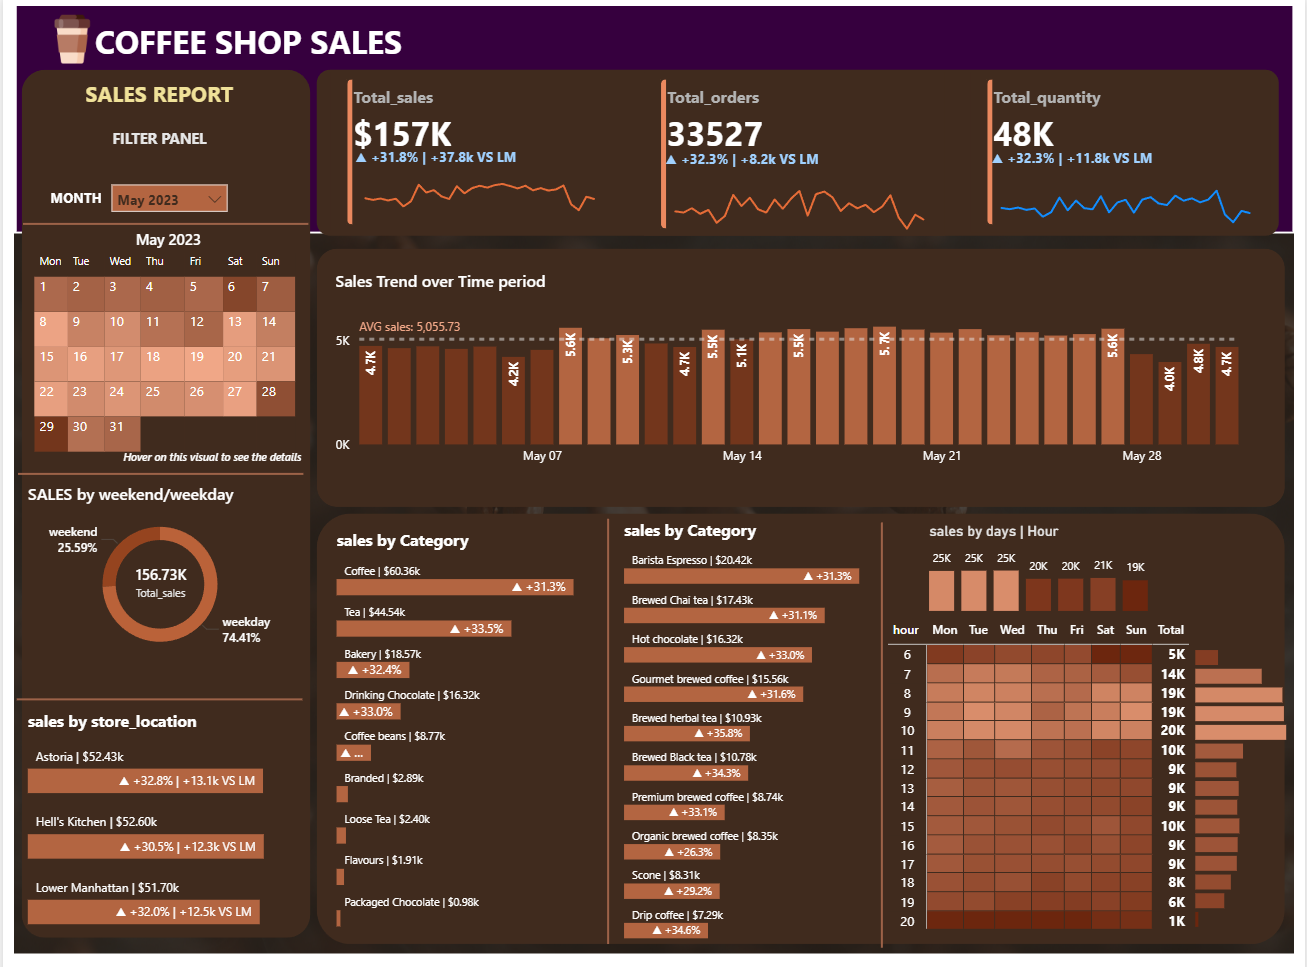

The dashboard page shown, as its layout file describes it:
{"tool":"powerbi","page":{"name":"coffee _sales_dashboard","canvas":[1302,1200],"ordinal":0},"visuals":[{"type":"shape","box":[14.1,10.3,1275.6,225.6],"z":0},{"type":"shape","box":[19.2,74.4,288.5,867.9],"z":1000},{"type":"shape","box":[314,74,962,166],"z":2000},{"type":"textbox","box":[73.1,19.2,346.2,66.7],"z":3000},{"type":"slicer","fields":{"Values":["Date_table.month_year"]},"box":[103.8,183.3,125.6,34.6],"z":4000},{"type":"group","id":"g1","title":"Group 1","box":[328,76.8,279.3,159.8],"z":5000},{"type":"cardVisual","fields":{"Data":["Transactions.total_sales"]},"box":[328,76.8,279,159.4],"z":5000,"group":"g1"},{"type":"cardVisual","fields":{"Data":["Transactions.Total_orders"]},"box":[641.5,76.8,300,163.5],"z":5000,"group":"g2"},{"type":"cardVisual","fields":{"Data":["Transactions.Total_quantity"]},"box":[967.1,76.8,300,159.8],"z":5000,"group":"g3"},{"type":"group","id":"g2","title":"Group 1","box":[641.5,76.8,300,163.4],"z":6000},{"type":"lineChart","fields":{"Y":["Transactions.Total_sales"],"Category":["Date_table.Date.Variation.Date Hierarchy.Year","Date_table.Date.Variation.Date Hierarchy.Quarter","Date_table.Date.Variation.Date Hierarchy.Month","Date_table.Date.Variation.Date Hierarchy.Day"]},"box":[348.3,152.2,258.7,84],"z":6000,"group":"g1"},{"type":"lineChart","fields":{"Category":["Date_table.Date.Variation.Date Hierarchy.Year","Date_table.Date.Variation.Date Hierarchy.Quarter","Date_table.Date.Variation.Date Hierarchy.Month","Date_table.Date.Variation.Date Hierarchy.Day"],"Y":["Transactions.Total_quantity"]},"box":[983.8,152.7,278.2,84],"z":6000,"group":"g3"},{"type":"lineChart","fields":{"Category":["Date_table.Date.Variation.Date Hierarchy.Year","Date_table.Date.Variation.Date Hierarchy.Quarter","Date_table.Date.Variation.Date Hierarchy.Month","Date_table.Date.Variation.Date Hierarchy.Day"],"Y":["Transactions.Total_orders"]},"box":[658.2,154.5,278.2,85.9],"z":6000,"group":"g2"},{"type":"group","id":"g3","title":"Group 1","box":[967.1,76.8,300,159.8],"z":7000},{"type":"pivotTable","fields":{"Rows":["Date_table.week day"],"Columns":["Date_table.day name"],"Values":["Min(Date_table.day num)"]},"box":[22,252.4,275.6,215.9],"z":8000},{"type":"cardVisual","fields":{"Data":["Min(Date_table.month_year)"]},"box":[103.7,212.2,125.6,61],"z":9000},{"type":"cardVisual","fields":{"Data":["Transactions.Foot note"]},"box":[91.5,434.1,309.8,52.4],"z":10000},{"type":"shape","box":[19.5,218.3,285.4,18.3],"z":11000},{"type":"donutChart","fields":{"Category":["Date_table.weekend/weekday"],"Y":["Sum(Transactions.SALES)"]},"box":[19.5,486.6,274.4,182.9],"z":12000},{"type":"cardVisual","fields":{"Data":["Transactions.Total_sales"]},"box":[103.7,551.2,162.2,69.5],"z":13000},{"type":"shape","box":[14.6,468.3,285.4,18.3],"z":14000},{"type":"shape","box":[314.1,517.9,967.9,430.8],"z":15000},{"type":"clusteredBarChart","title":"sales by store_location","fields":{"Category":["Transactions.store_location"],"Y":["Transactions.Place Holder","Transactions.Total_sales"]},"box":[19.5,713.4,274.4,223.2],"z":16000},{"type":"shape","box":[313.4,252.4,968.3,258.5],"z":17000},{"type":"columnChart","title":"Sales Trend over Time period","fields":{"Category":["Transactions.transaction_date"],"Y":["Transactions.Total_sales"]},"box":[328,273.2,923.2,204.9],"z":18000},{"type":"clusteredBarChart","title":"sales by Category","fields":{"Y":["Transactions.Place Holder","Transactions.Total_sales"],"Category":["Transactions.product_category"]},"box":[328.2,532.1,279.5,403.8],"z":19000},{"type":"shape","box":[14.1,693.6,285.9,19.2],"z":20000},{"type":"shape","box":[574.4,523.1,62.8,425.6],"z":21000},{"type":"clusteredBarChart","title":"sales by Category","fields":{"Y":["Transactions.Place Holder","Transactions.Total_sales"],"Category":["Transactions.product_type"]},"box":[616.7,523.1,280.8,425.6],"z":22000},{"type":"shape","box":[847.4,525.6,62.8,425.6],"z":23000},{"type":"pivotTable","fields":{"Rows":["Transactions.hour"],"Columns":["Date_table.day name"],"Values":["Transactions.Total_sales"]},"box":[879.5,620.5,312.8,328.2],"z":24000},{"type":"barChart","fields":{"Y":["Transactions.Total_sales"],"Category":["Transactions.hour"]},"box":[1187.2,641,102.6,294.9],"z":25000},{"type":"columnChart","title":"sales by days | Hour","fields":{"Y":["Transactions.Total_sales"],"Category":["Date_table.day name"]},"box":[921.8,525.6,229.5,94.9],"z":26000},{"type":"textbox","box":[42.3,187.2,74.4,29.5],"z":27000},{"type":"textbox","box":[39.7,76.9,226.9,46.2],"z":28000},{"type":"textbox","box":[73.1,126.9,167.9,32.1],"z":29000},{"type":"image","box":[39.7,19.2,57.7,48.7],"z":30000}]}

Visuals, with their boxes on the page's 1302x1200 design canvas (x1, y1, x2, y2). These are canvas units, not pixel positions in the 1307x967 screenshot, which may show the page scaled, cropped or inside an application window:
shape: pyautogui.locateOnScreen(14, 10, 1290, 236)
shape: pyautogui.locateOnScreen(19, 74, 308, 942)
shape: pyautogui.locateOnScreen(314, 74, 1276, 240)
textbox: pyautogui.locateOnScreen(73, 19, 419, 86)
slicer - Date_table.month_year: pyautogui.locateOnScreen(104, 183, 229, 218)
"Group 1" group: pyautogui.locateOnScreen(328, 77, 607, 237)
cardVisual - Transactions.total_sales: pyautogui.locateOnScreen(328, 77, 607, 236)
cardVisual - Transactions.Total_orders: pyautogui.locateOnScreen(642, 77, 942, 240)
cardVisual - Transactions.Total_quantity: pyautogui.locateOnScreen(967, 77, 1267, 237)
"Group 1" group: pyautogui.locateOnScreen(642, 77, 942, 240)
lineChart - Transactions.Total_sales x Date_table.Date.Variation.Date Hierarchy.Year: pyautogui.locateOnScreen(348, 152, 607, 236)
lineChart - Date_table.Date.Variation.Date Hierarchy.Year x Date_table.Date.Variation.Date Hierarchy.Quarter: pyautogui.locateOnScreen(984, 153, 1262, 237)
lineChart - Date_table.Date.Variation.Date Hierarchy.Year x Date_table.Date.Variation.Date Hierarchy.Quarter: pyautogui.locateOnScreen(658, 154, 936, 240)
"Group 1" group: pyautogui.locateOnScreen(967, 77, 1267, 237)
pivotTable - Date_table.week day x Date_table.day name: pyautogui.locateOnScreen(22, 252, 298, 468)
cardVisual - Min(Date_table.month_year): pyautogui.locateOnScreen(104, 212, 229, 273)
cardVisual - Transactions.Foot note: pyautogui.locateOnScreen(92, 434, 401, 486)
shape: pyautogui.locateOnScreen(20, 218, 305, 237)
donutChart - Date_table.weekend/weekday x Sum(Transactions.SALES): pyautogui.locateOnScreen(20, 487, 294, 670)
cardVisual - Transactions.Total_sales: pyautogui.locateOnScreen(104, 551, 266, 621)
shape: pyautogui.locateOnScreen(15, 468, 300, 487)
shape: pyautogui.locateOnScreen(314, 518, 1282, 949)
"sales by store_location" clusteredBarChart: pyautogui.locateOnScreen(20, 713, 294, 937)
shape: pyautogui.locateOnScreen(313, 252, 1282, 511)
"Sales Trend over Time period" columnChart: pyautogui.locateOnScreen(328, 273, 1251, 478)
"sales by Category" clusteredBarChart: pyautogui.locateOnScreen(328, 532, 608, 936)
shape: pyautogui.locateOnScreen(14, 694, 300, 713)
shape: pyautogui.locateOnScreen(574, 523, 637, 949)
"sales by Category" clusteredBarChart: pyautogui.locateOnScreen(617, 523, 898, 949)
shape: pyautogui.locateOnScreen(847, 526, 910, 951)
pivotTable - Transactions.hour x Date_table.day name: pyautogui.locateOnScreen(880, 620, 1192, 949)
barChart - Transactions.Total_sales x Transactions.hour: pyautogui.locateOnScreen(1187, 641, 1290, 936)
"sales by days | Hour" columnChart: pyautogui.locateOnScreen(922, 526, 1151, 620)
textbox: pyautogui.locateOnScreen(42, 187, 117, 217)
textbox: pyautogui.locateOnScreen(40, 77, 267, 123)
textbox: pyautogui.locateOnScreen(73, 127, 241, 159)
image: pyautogui.locateOnScreen(40, 19, 97, 68)
